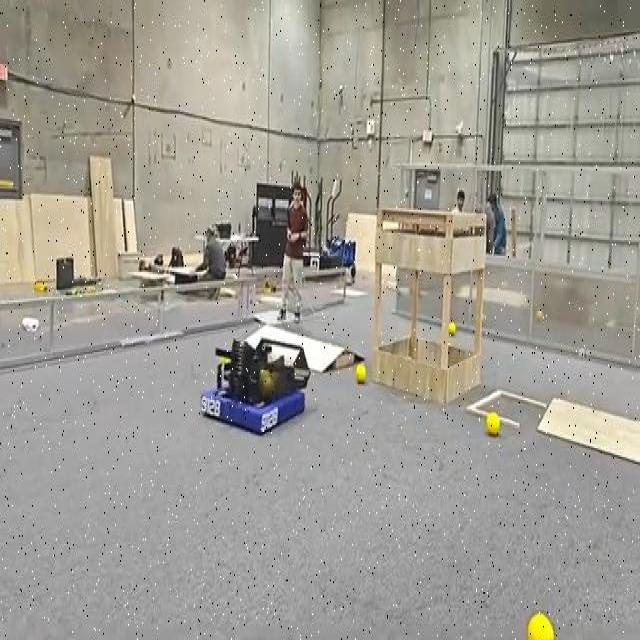Fuel: (527, 612, 553, 638), (486, 412, 500, 438), (355, 363, 367, 384), (355, 363, 366, 384), (448, 322, 455, 334)
